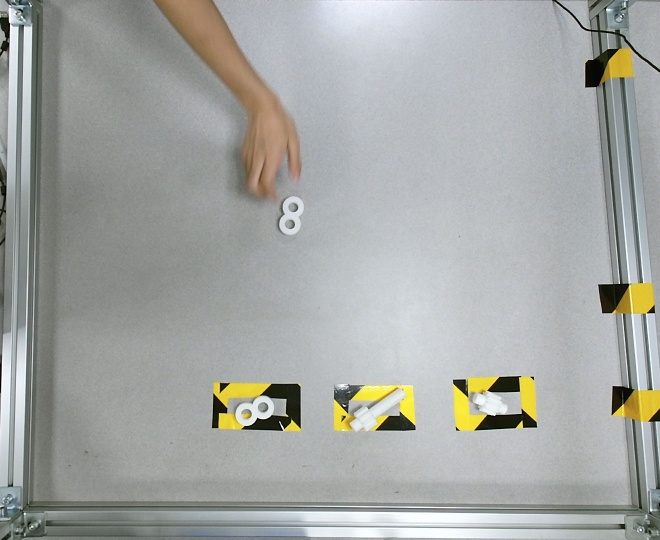stage_1: (279, 196, 304, 236)
